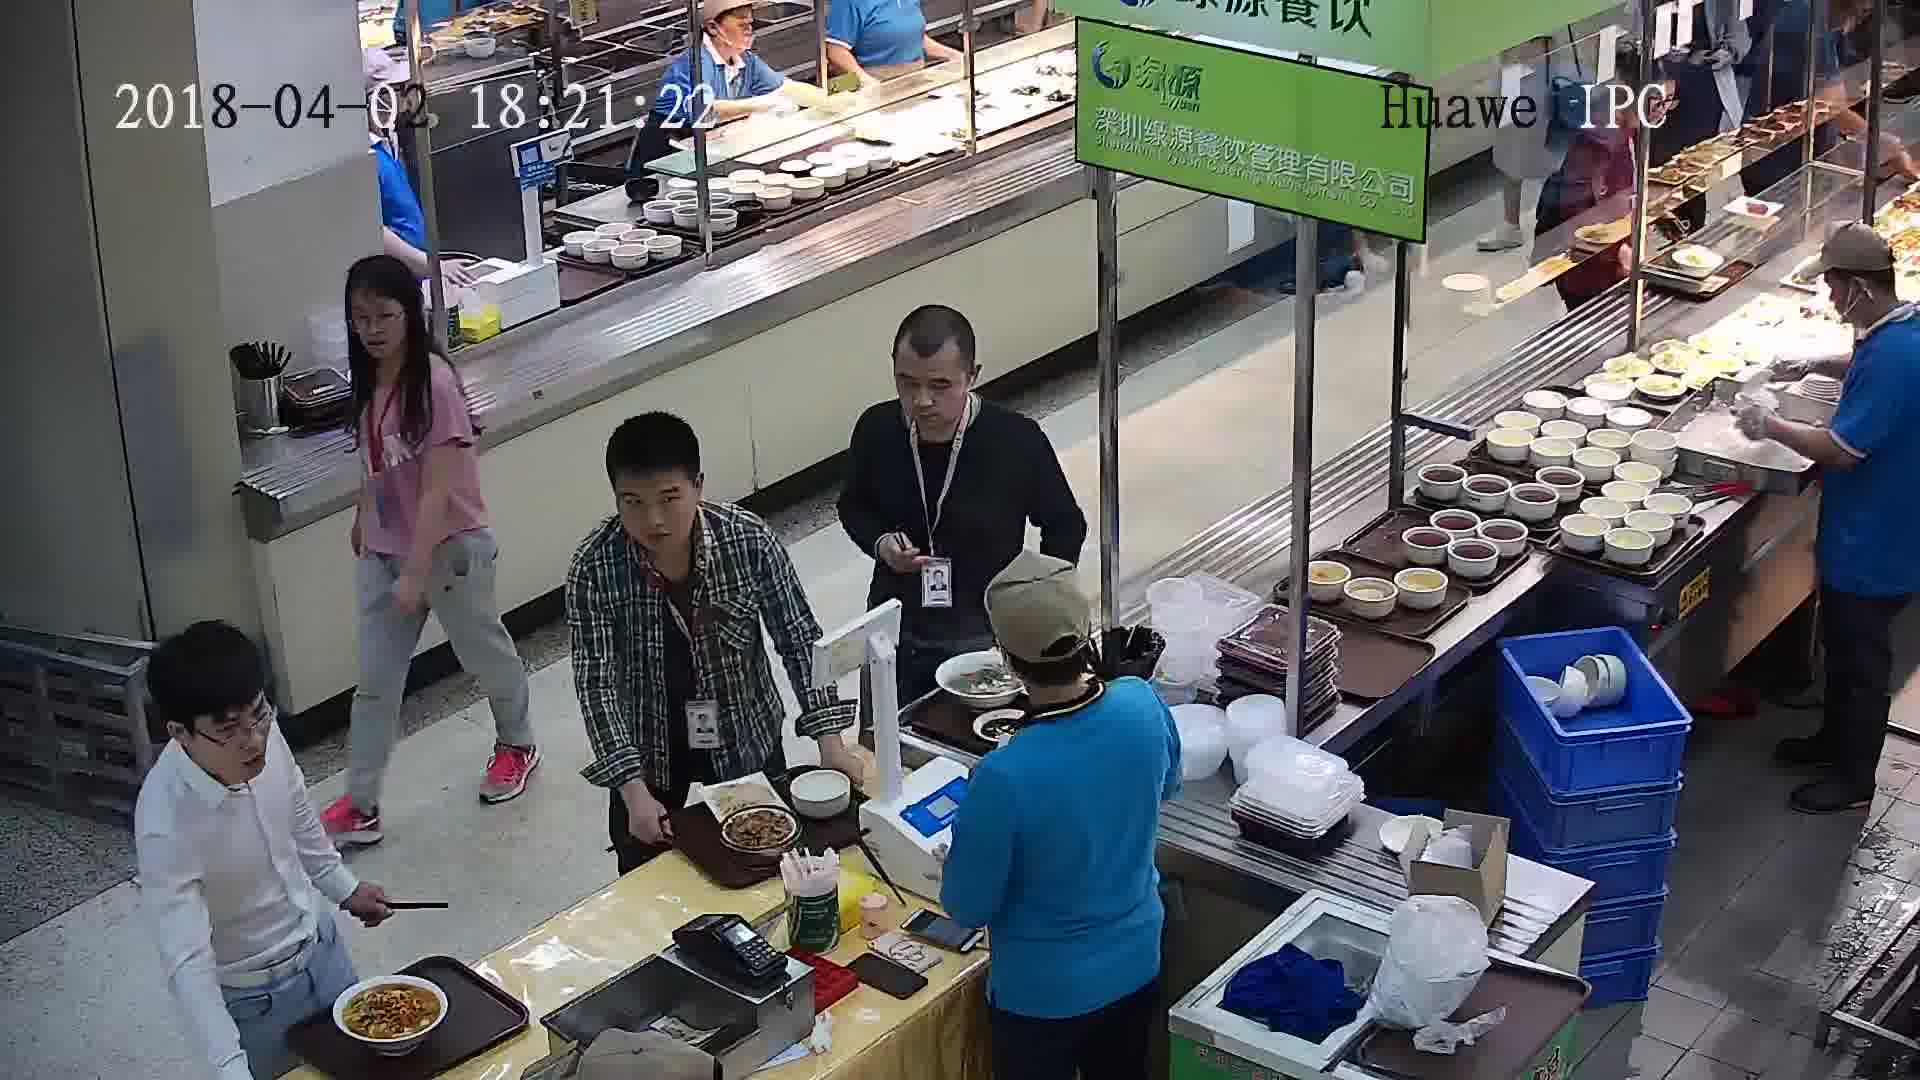face: (184, 690, 277, 783), (614, 466, 699, 551), (890, 354, 971, 435), (339, 283, 416, 360)
person: (966, 558, 1171, 809), (560, 407, 797, 622), (131, 616, 309, 855), (848, 302, 1054, 485), (341, 252, 467, 424), (1809, 231, 1919, 400), (664, 4, 775, 88)
